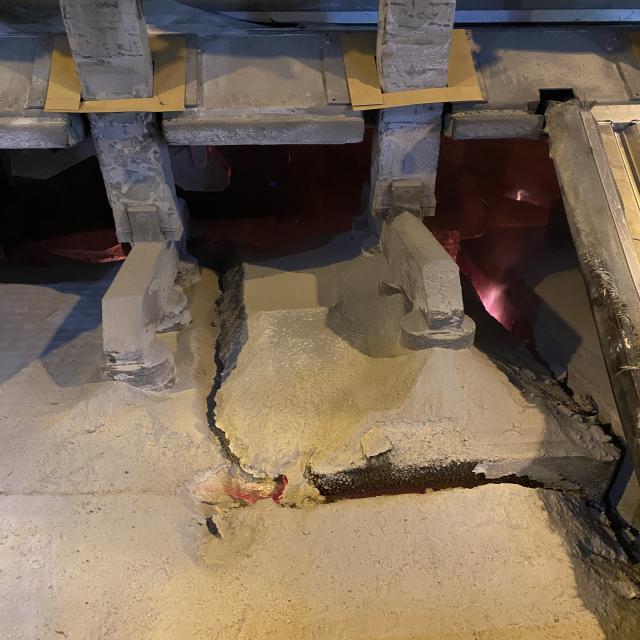Blackspot: (308, 456, 618, 509)
Redspot: (282, 476, 287, 484)
